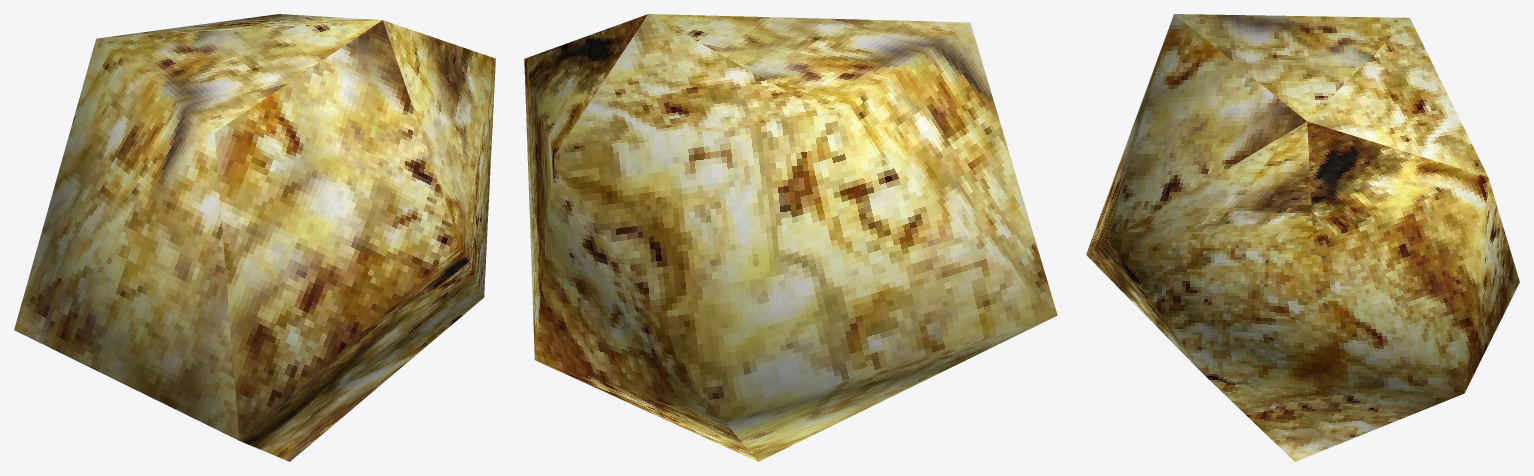
The model's file is GoldNugget.glb.
3 renders of one model, left to right at view 1: azimuth 30°, elevation 25°; view 2: azimuth 150°, elevation 25°; view 3: azimuth 270°, elevation 25°, orthographic. The views are drawn at different scales.
Visible parts, largest first — view 1: GoldNugget; view 2: GoldNugget; view 3: GoldNugget.
Boxes of the visible parts, <box> form: GoldNugget: <box>14,14,495,461</box>; GoldNugget: <box>524,14,1057,461</box>; GoldNugget: <box>1086,14,1519,461</box>.
Bounding box in the file's own units: 0.1073 × 0.085 × 0.0866.
1 material, 1 textured.
